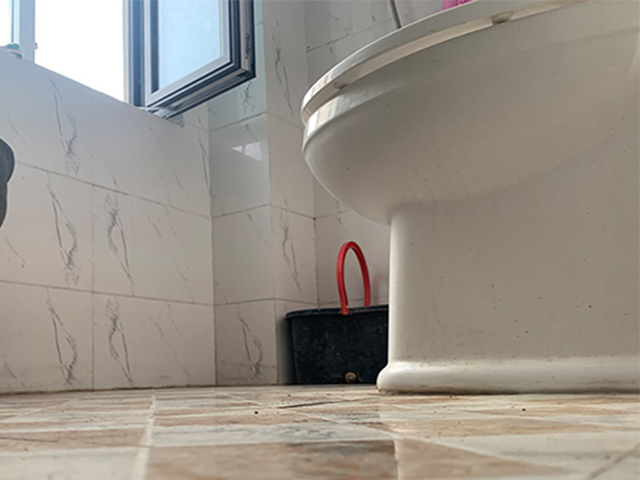closestool: (299, 1, 640, 392)
